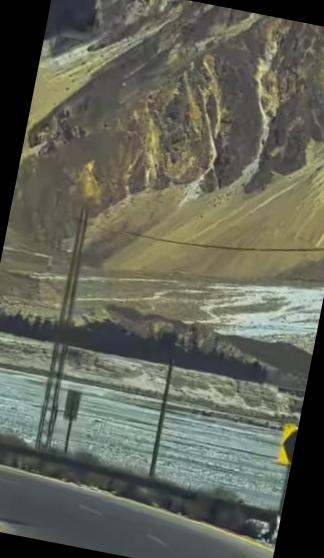left_turn: (0, 427, 276, 558), (275, 421, 299, 467)
